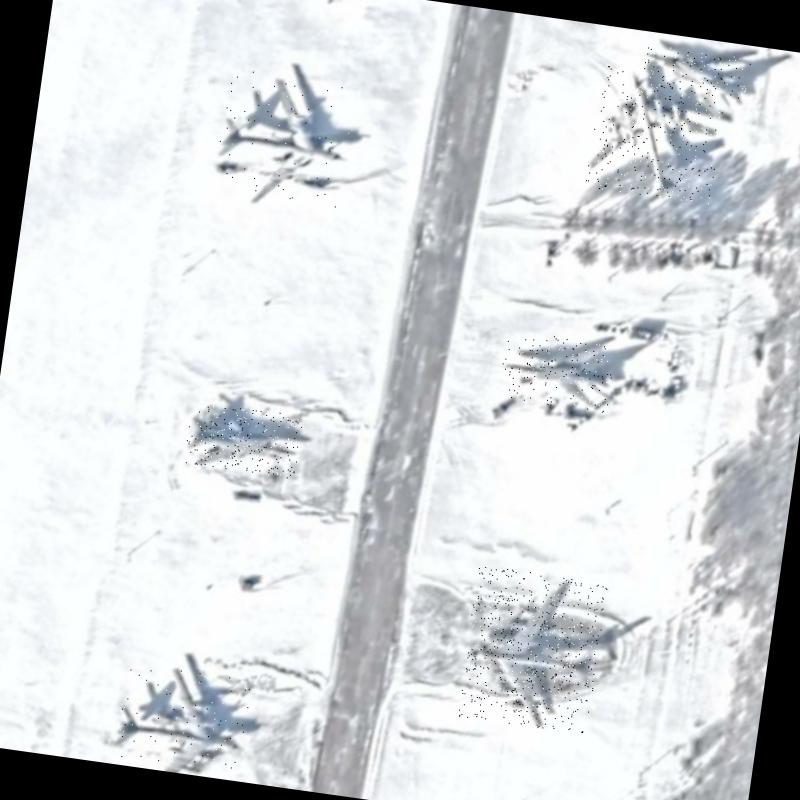A12: (497, 329, 616, 413), (183, 400, 303, 479), (639, 44, 751, 111)
A17: (457, 564, 608, 734), (210, 68, 356, 214), (584, 65, 726, 204), (110, 657, 252, 780)
